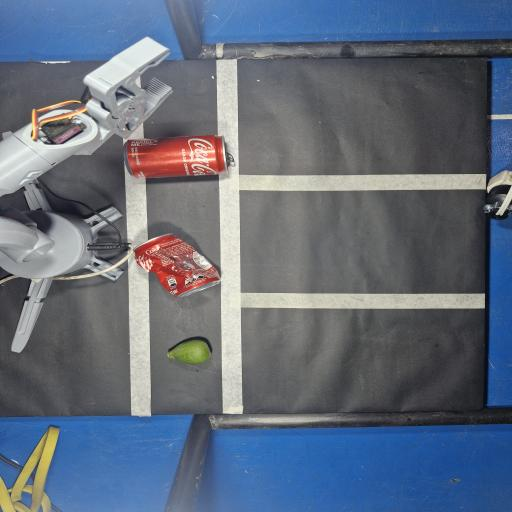higo: (168, 340, 211, 364)
lata: (124, 135, 234, 178)
lata_defectuoso: (135, 234, 220, 297)
